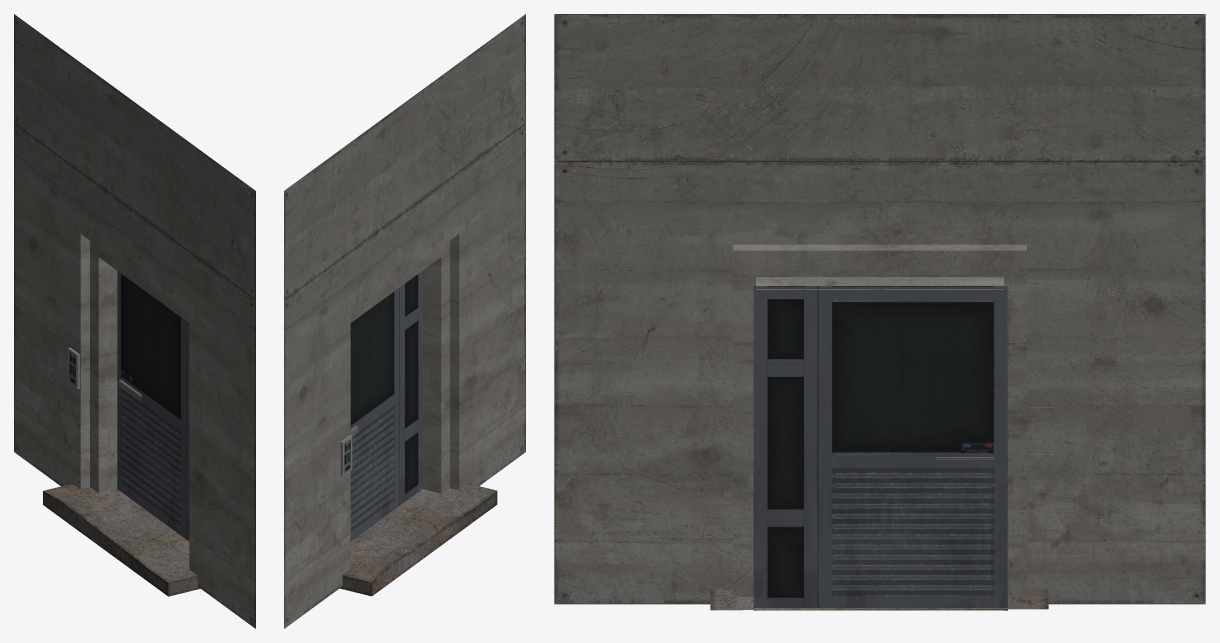
The model's file is CP_Wall_Entry_4m_02.fbx.
The picture shows the model from 3 angles, left to right: view 1: azimuth 30°, elevation 25°; view 2: azimuth 150°, elevation 25°; view 3: azimuth 270°, elevation 25°; orthographic projection. The views are drawn at different scales.
Parts seen in each view (by area): view 1: CP_Wall_Entry_4m_02; view 2: CP_Wall_Entry_4m_02; view 3: CP_Wall_Entry_4m_02.
Boxes of the visible parts, x1,y1,x2,y2 form: CP_Wall_Entry_4m_02: [14, 14, 255, 628]; CP_Wall_Entry_4m_02: [284, 14, 525, 628]; CP_Wall_Entry_4m_02: [554, 14, 1205, 610].
Size of the model in its own units: 58.44 by 403 by 400.
